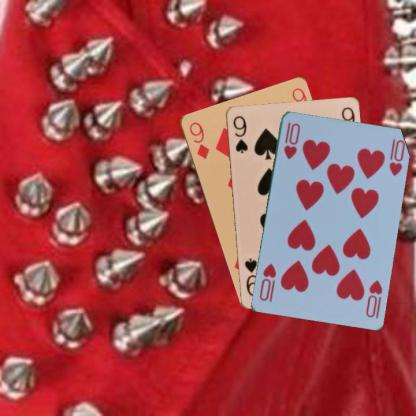10h: (362, 276, 384, 318), (280, 119, 301, 160)
9d: (186, 119, 210, 161)
9s: (230, 113, 248, 154)
